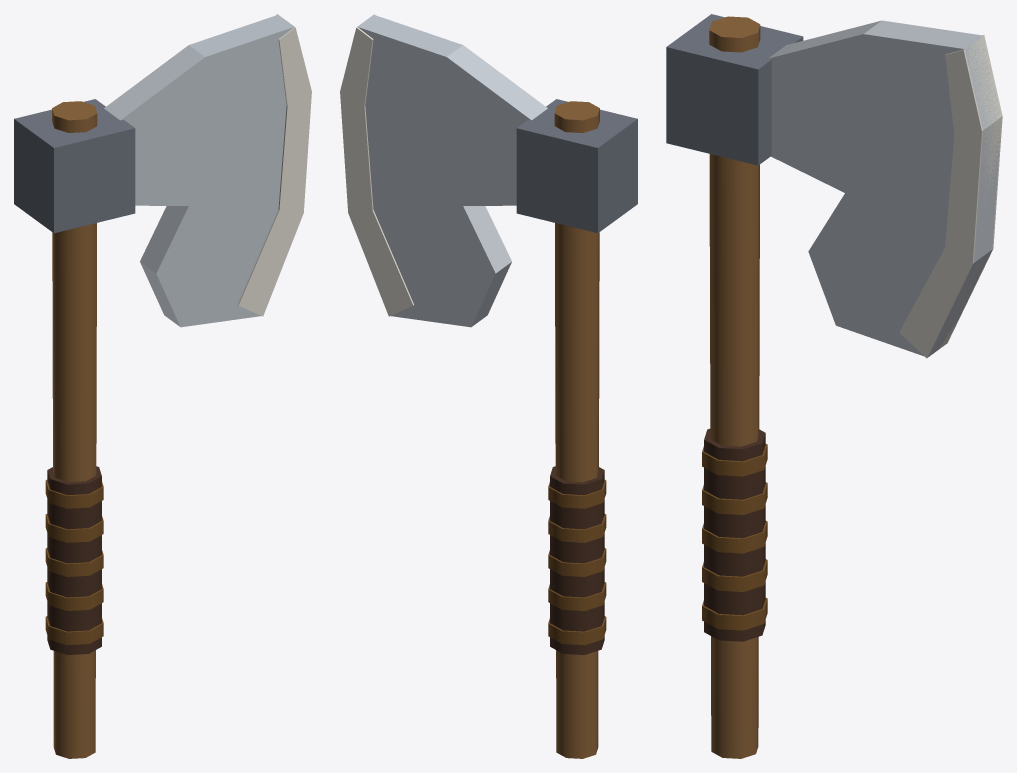
The model's file is viking-axe.glb.
3 renders of one model, left to right at view 1: azimuth 30°, elevation 25°; view 2: azimuth 150°, elevation 25°; view 3: azimuth 330°, elevation 25°, orthographic. The views are drawn at different scales.
Parts seen in each view (by area): view 1: BeardedBlade, Haft, Eye, BladeEdge, Grip, GripWrap (×5); view 2: BeardedBlade, Haft, Eye, BladeEdge, Grip, GripWrap (×5); view 3: BeardedBlade, Haft, Eye, BladeEdge, Grip, GripWrap (×5).
Part boxes in pixels (x1,y1,x2,y2): BeardedBlade: (104,14,294,327); Haft: (52,101,97,758); Eye: (14,99,135,233); BladeEdge: (238,14,311,316); Grip: (47,466,101,654); GripWrap (×5): (45,480,103,645); BeardedBlade: (357,14,547,327); Haft: (554,101,599,758); Eye: (516,99,637,233); BladeEdge: (340,14,413,316); Grip: (550,466,604,654); GripWrap (×5): (548,480,606,645); BeardedBlade: (768,20,1001,357); Haft: (709,16,760,758); Eye: (666,14,803,165); BladeEdge: (899,35,1002,358); Grip: (704,428,765,641); GripWrap (×5): (702,444,767,630).
Size of the model in its own units: 0.33 by 0.795 by 0.085.
